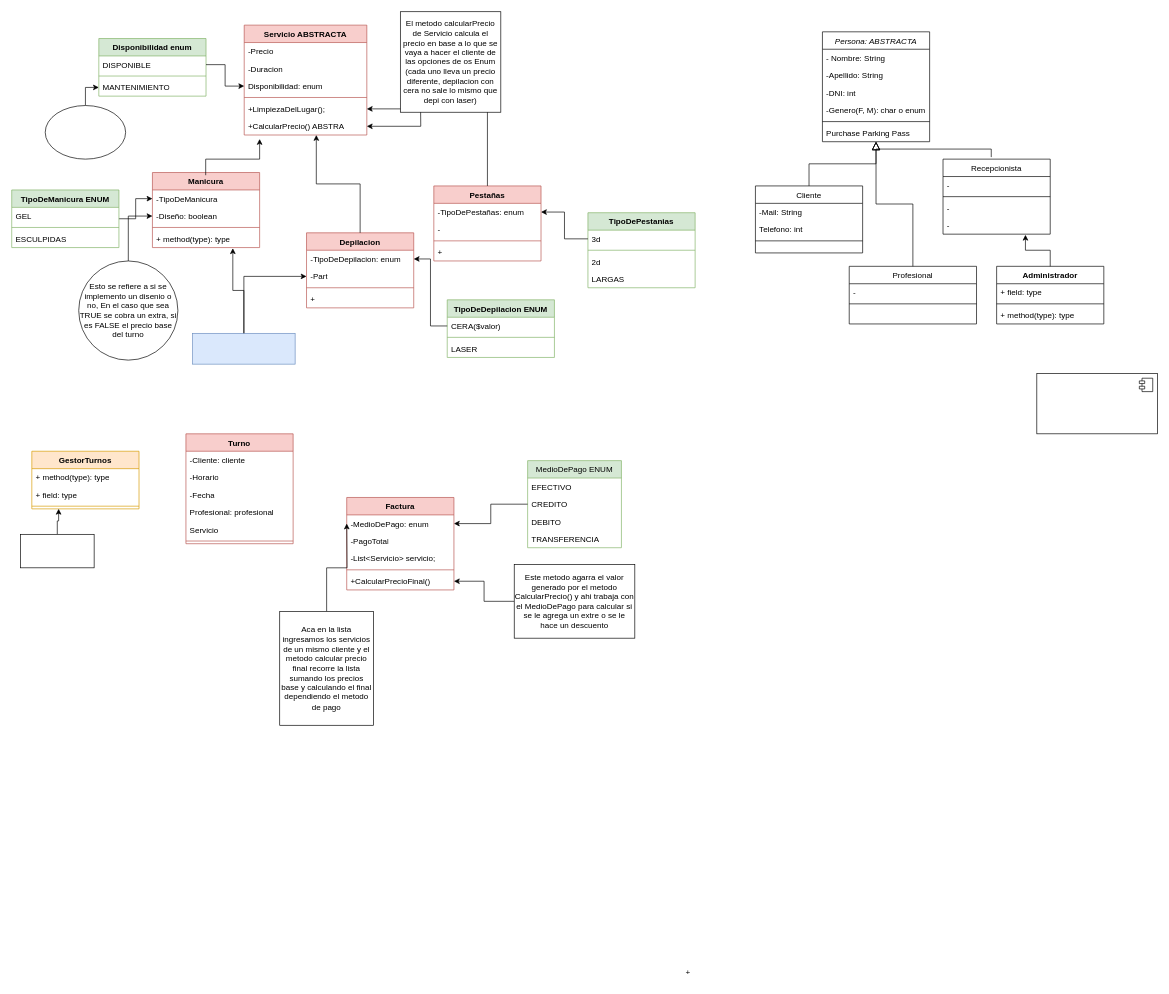
The diagram is 1169 pixels wide and 994 high, and some of its shapes have lost their labels. The shapes that lost their labels are listed below. From the top down, each one's centre as x and y in pixels, then its label:
At point (85, 132): "Mantenimiento engloba todo".
At point (243, 348): "«interface» MantenimientoMaquinas".
At point (1096, 403): "ANOTACIONES FALTA: Excepciones Gestores".
At point (57, 551): "Aca podemos implementar generalicidad".
